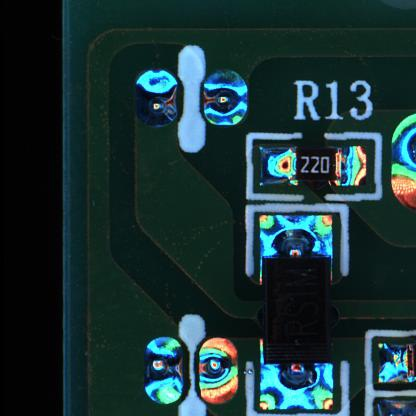spot: (194, 333, 241, 406), (142, 333, 187, 407), (132, 64, 180, 133), (198, 65, 249, 129)
